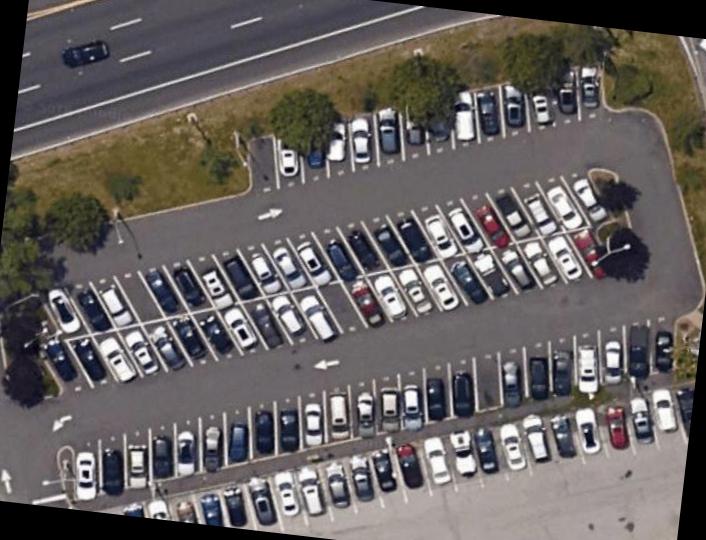parkingspot: (32, 165, 634, 399), (71, 310, 683, 505), (96, 380, 696, 533), (245, 58, 607, 199)
